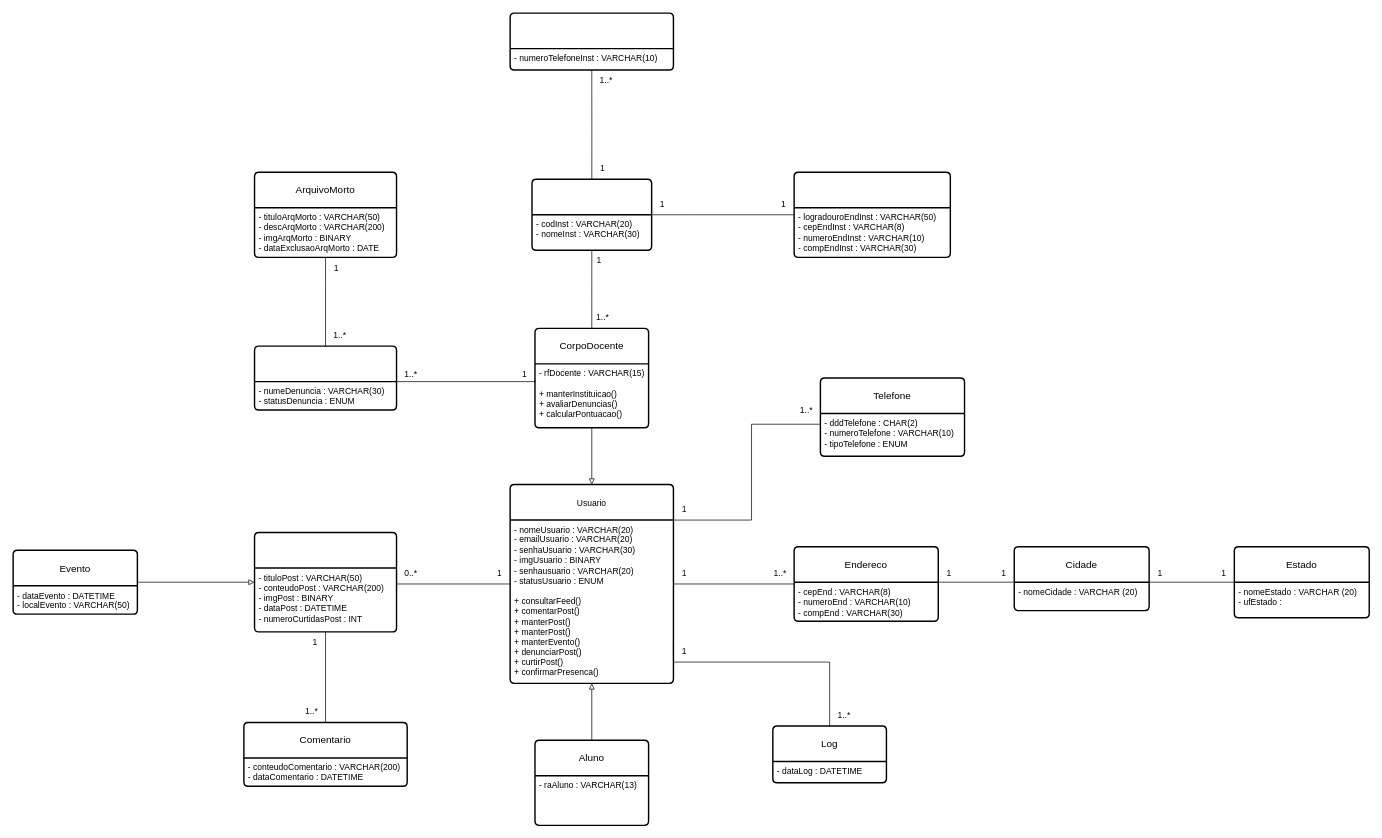
This 1382x838 diagram has some shape labels left out. The box of each missing label's shape, as (x1, y1, x2, y2) in pixels:
Denuncias: (253, 345, 397, 410)
EnderecoInstituicao: (793, 171, 951, 258)
Instituicao: (531, 178, 652, 251)
Postagem: (253, 531, 397, 632)
TelefoneInstituicao: (509, 12, 674, 70)
